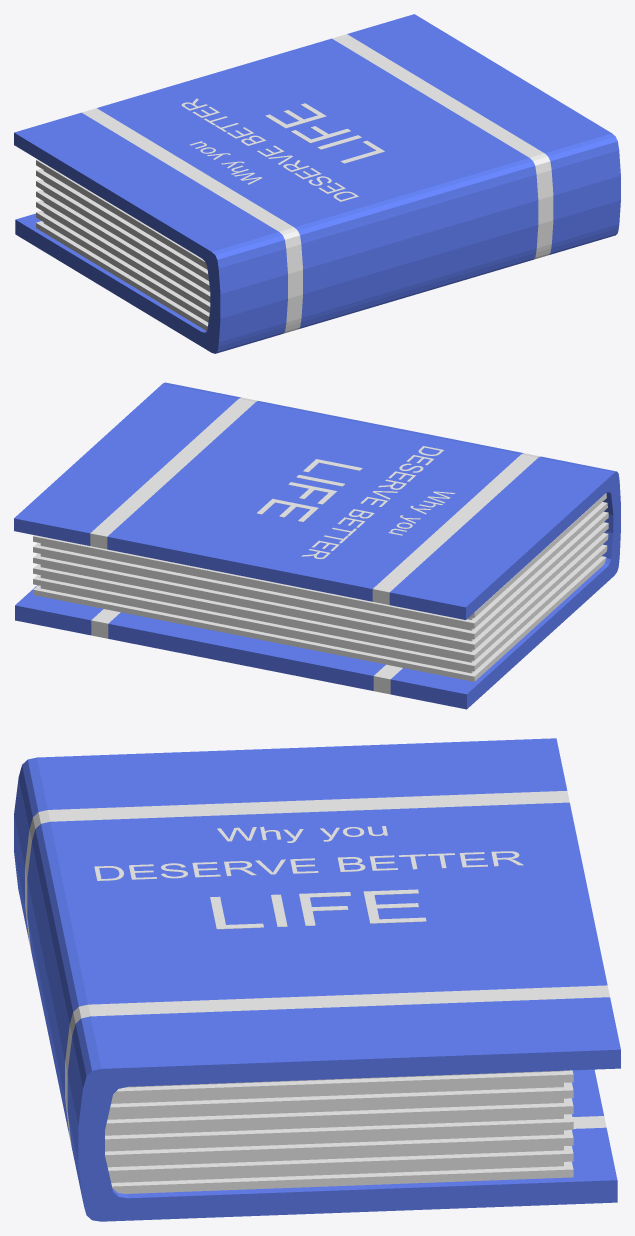
Rendered from Textbook.gltf.
3 renders of one model, top to bottom at view 1: azimuth 30°, elevation 25°; view 2: azimuth 150°, elevation 25°; view 3: azimuth 270°, elevation 25°, orthographic. The views are drawn at different scales.
Parts seen in each view (by area): view 1: node-0; view 2: node-0; view 3: node-0.
Part boxes in pixels (x1=…): node-0: x1=14, y1=14, x2=620, y2=353; node-0: x1=14, y1=382, x2=620, y2=709; node-0: x1=14, y1=738, x2=620, y2=1221.
Size of the model in its own units: 800723 by 172474 by 619693.
